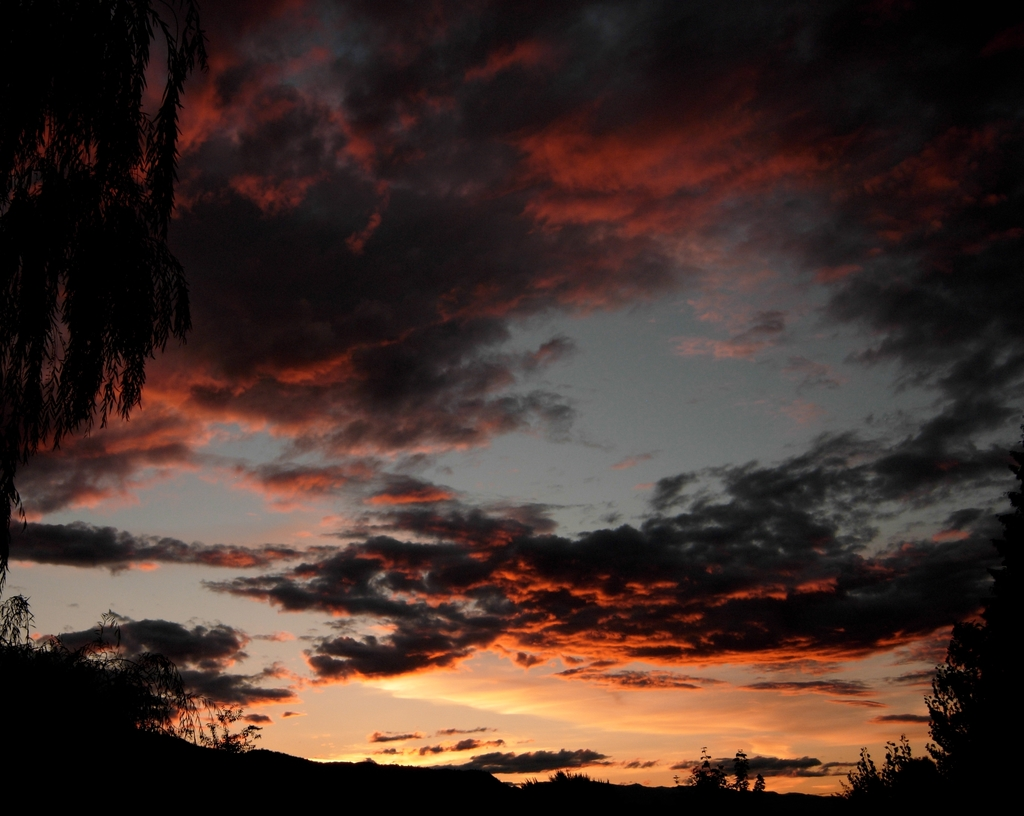Tree: (0, 8, 171, 590), (837, 568, 1023, 800), (93, 609, 263, 748), (664, 741, 759, 789)
